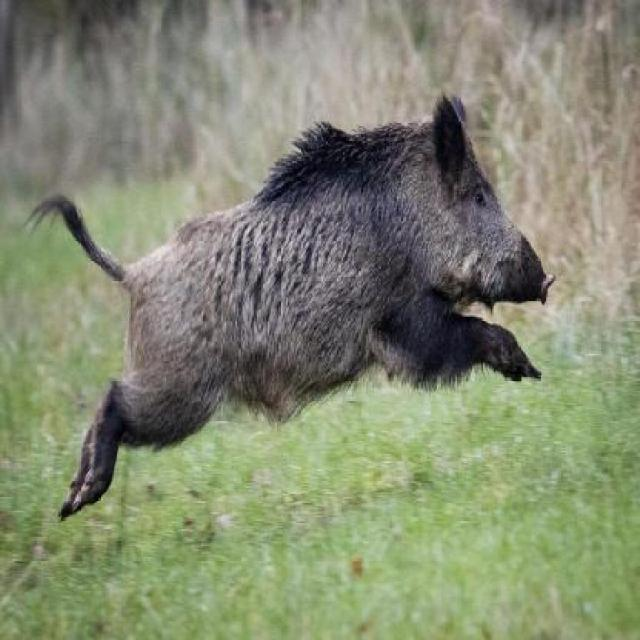wildboar: (21, 80, 562, 534)
